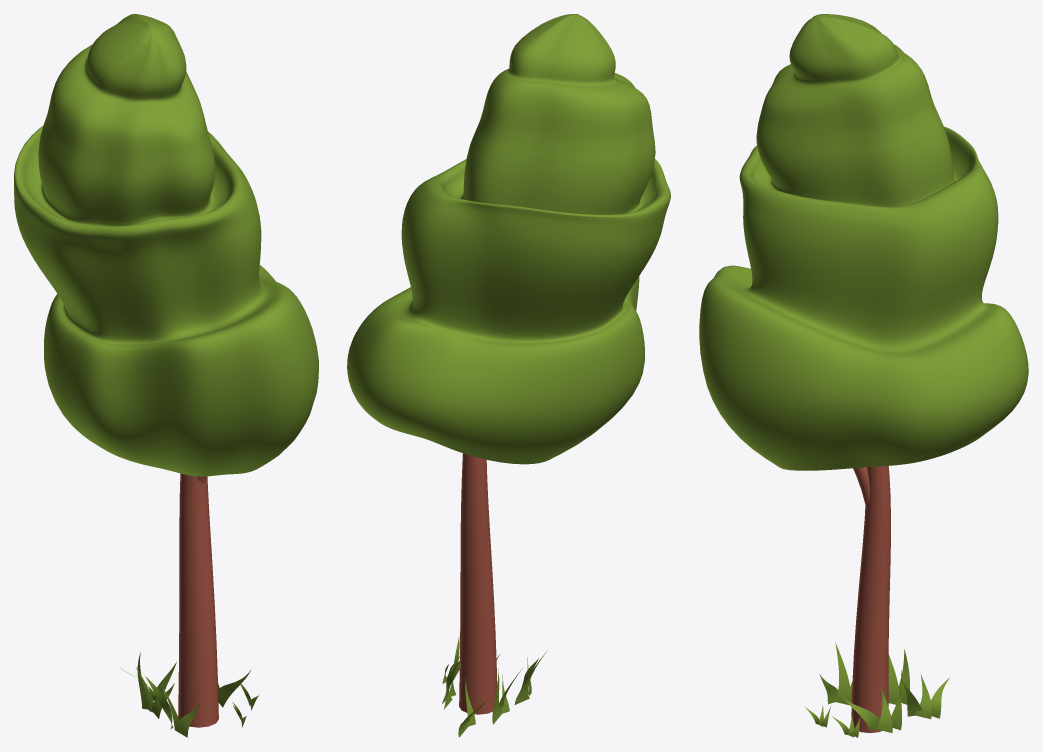
Rendered from trees.glb.
3 views of the same model, side by side, from view 1: azimuth 30°, elevation 25°; view 2: azimuth 150°, elevation 25°; view 3: azimuth 270°, elevation 25° (orthographic). The views are drawn at different scales.
Visible parts, largest first — view 1: SurfCircle_1, BezierCurve.007_20, BezierCurve.013_24, BezierCurve.016_27; view 2: SurfCircle_1, BezierCurve.007_20; view 3: SurfCircle_1, BezierCurve.007_20, BezierCurve.011_22, BezierCurve.015_26, BezierCurve.013_24, BezierCurve.016_27.
Part boxes in pixels (x1,y1,x2,y2): SurfCircle_1: (14, 14, 318, 476); BezierCurve.007_20: (178, 473, 218, 727); BezierCurve.013_24: (145, 676, 200, 737); BezierCurve.016_27: (135, 652, 174, 718); SurfCircle_1: (347, 14, 670, 464); BezierCurve.007_20: (459, 453, 497, 714); SurfCircle_1: (699, 14, 1028, 470); BezierCurve.007_20: (851, 466, 890, 732); BezierCurve.011_22: (842, 670, 901, 732); BezierCurve.015_26: (902, 674, 950, 718); BezierCurve.013_24: (819, 642, 852, 705); BezierCurve.016_27: (888, 649, 909, 704).
Bounding box in the file's own units: 0.3376 × 0.8485 × 0.3737.
